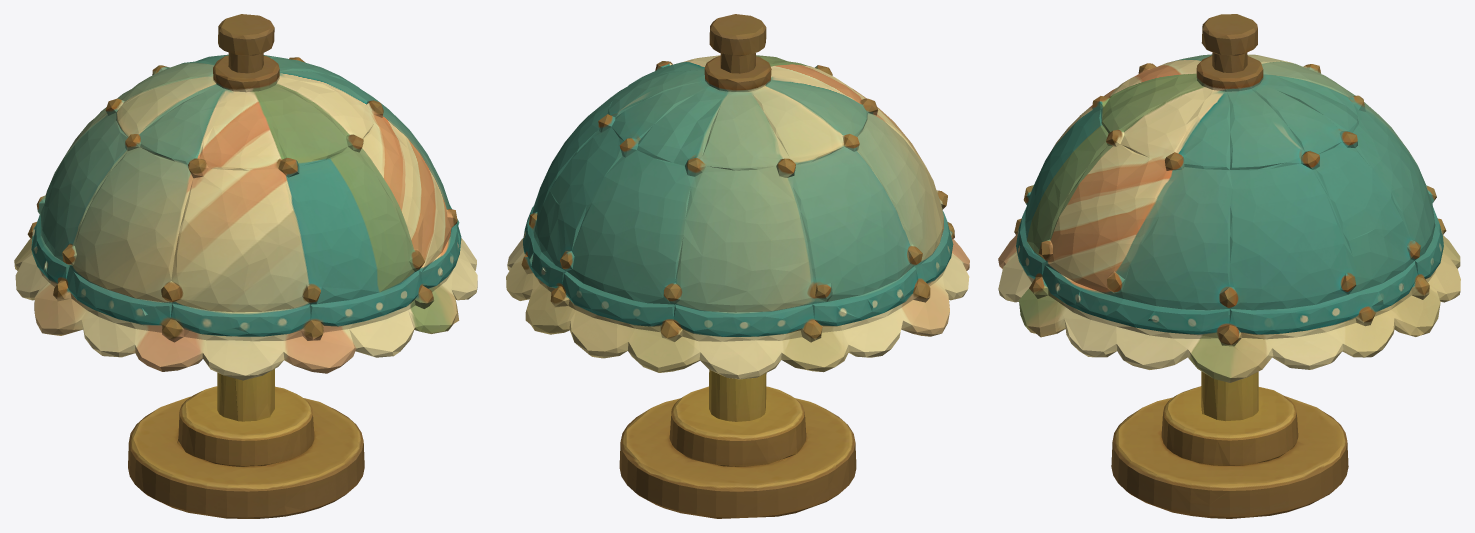
The model's file is deco_table_lamp.glb.
3 renders of one model, left to right at view 1: azimuth 30°, elevation 25°; view 2: azimuth 150°, elevation 25°; view 3: azimuth 270°, elevation 25°, orthographic.
Visible parts, largest first — view 1: world; view 2: world; view 3: world.
Part boxes in pixels (x1,y1,x2,y2): world: (14, 14, 477, 518); world: (506, 14, 969, 518); world: (998, 14, 1460, 518).
Bounding box in the file's own units: 0.9629 × 1 × 0.94.
1 material, 1 textured.
